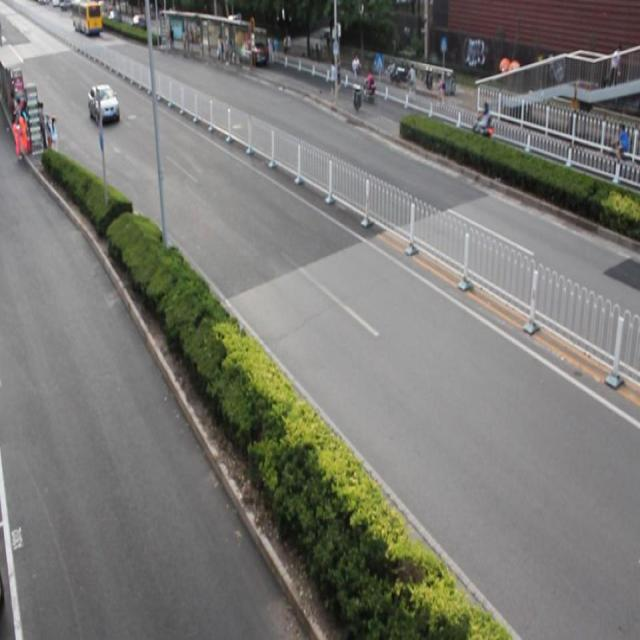car: (88, 86, 120, 125), (237, 35, 267, 66)
